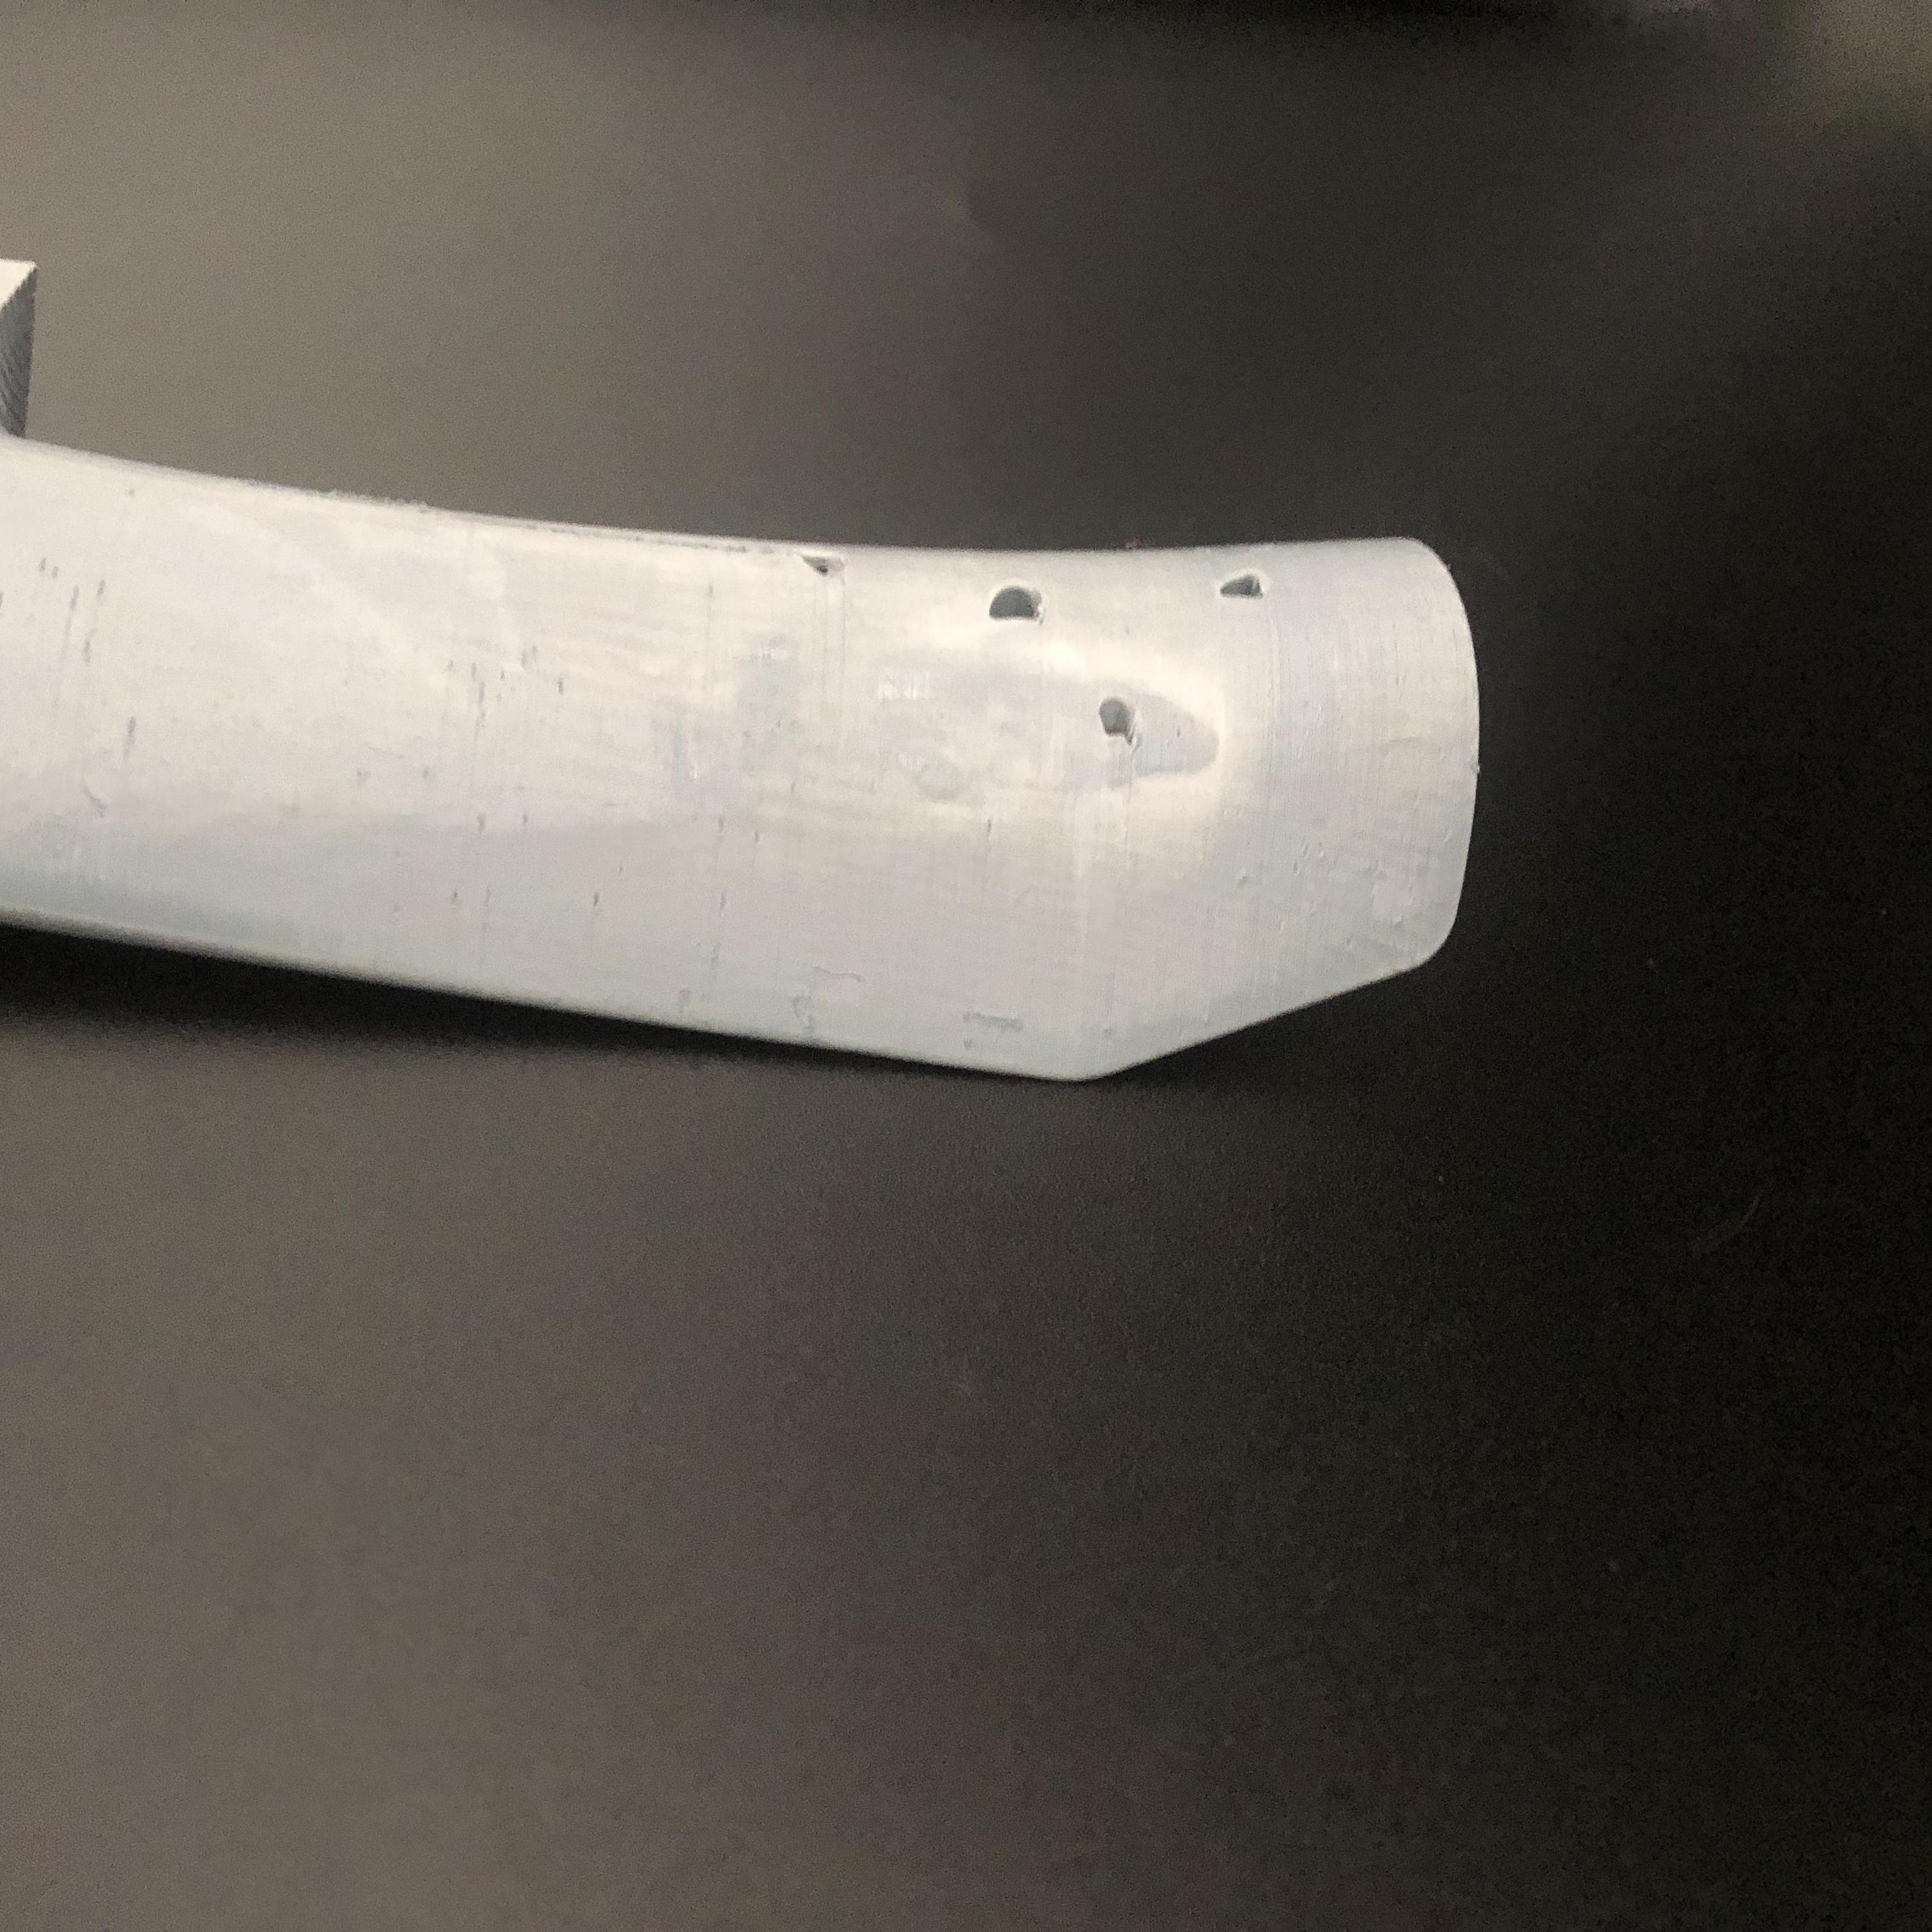breakdown: (800, 545, 1070, 635), (1088, 688, 1168, 766), (1205, 552, 1283, 614)
